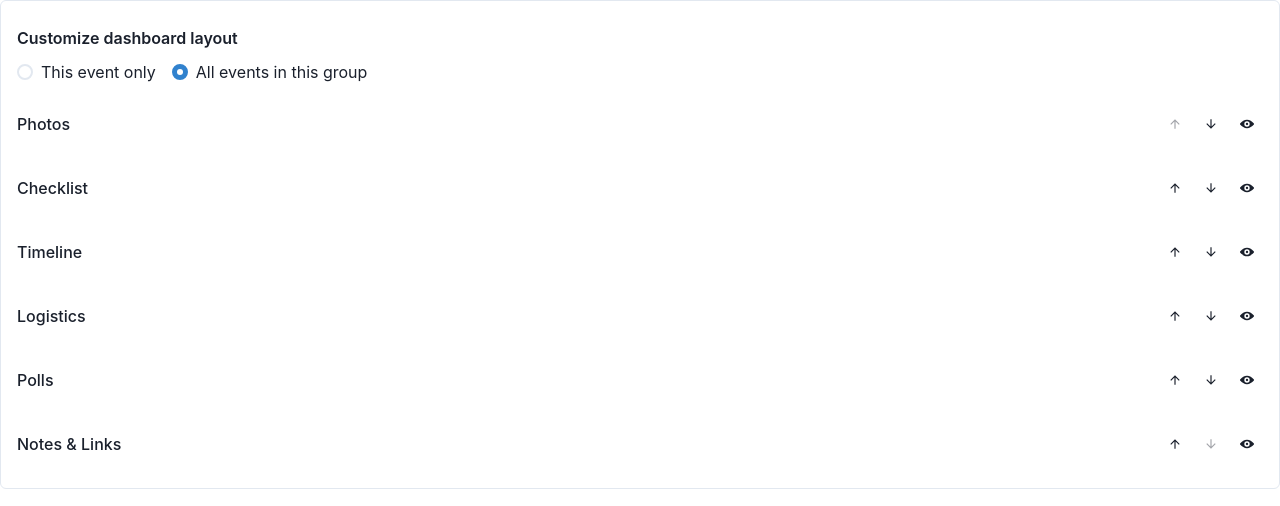
Test: DashboardWidgetCustomizer › optimistically hides a widget, showing a Hidden badge
Click the button named "Hide Photos" at coordinates (1247, 124), box [1231,100,1263,148]
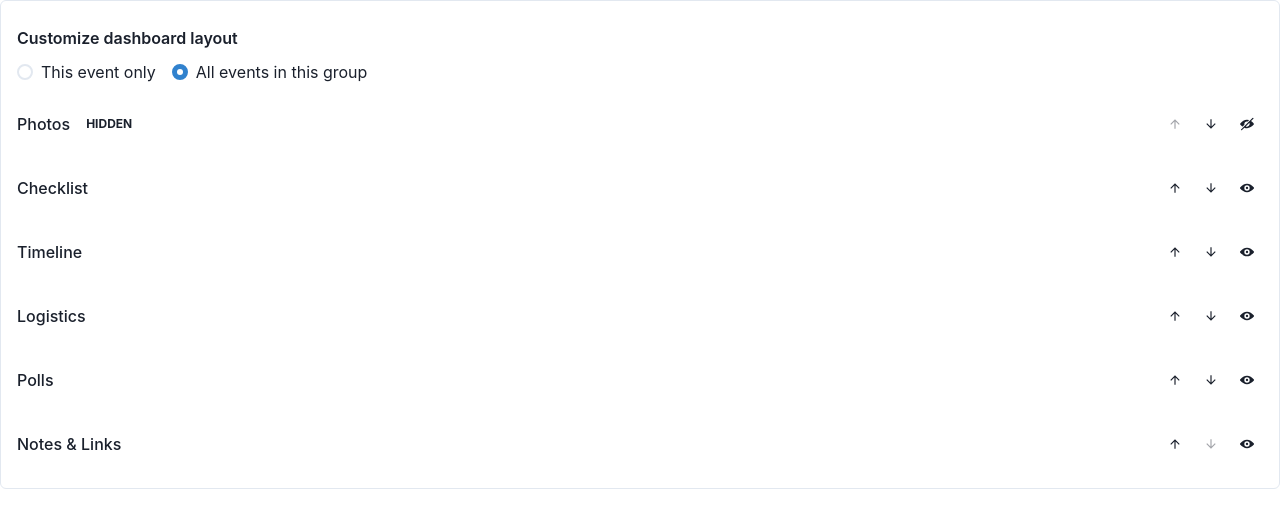
Expected: the text "Hidden" is shown, [82,115,136,133]
Expected: the button named "Show Photos" is shown, [1231,100,1263,148]
